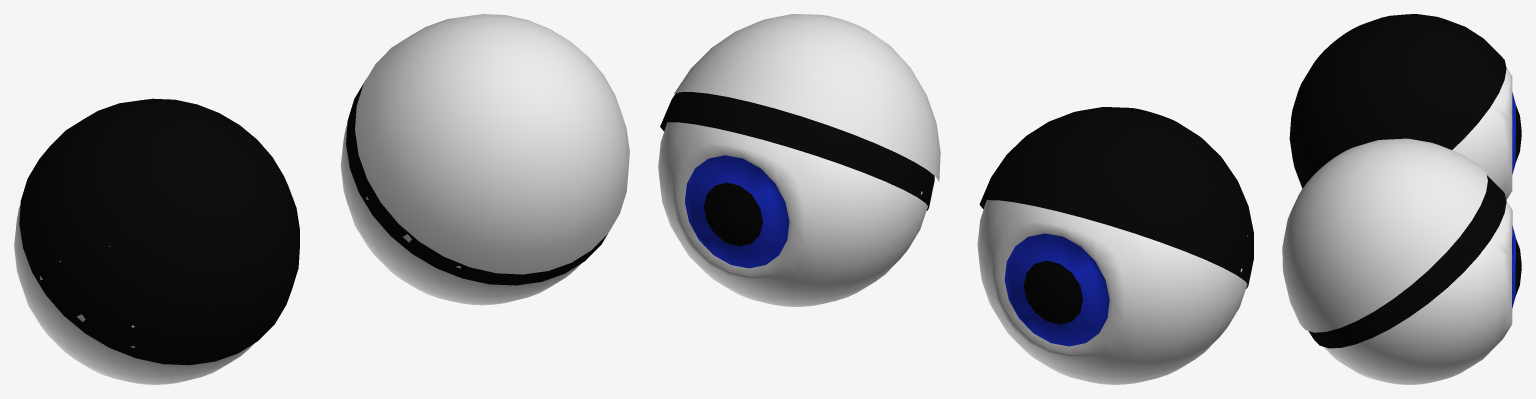
The model's file is Eyeball.glb.
3 renders of one model, left to right at view 1: azimuth 30°, elevation 25°; view 2: azimuth 150°, elevation 25°; view 3: azimuth 270°, elevation 25°, orthographic. The views are drawn at different scales.
Parts seen in each view (by area): view 1: Eyelid 2.001, Eyelid 1, EYEBALL, EYEBALL.001, Eyelid 2; view 2: EYEBALL.001, EYEBALL, Eyelid 2.001, Eyelid 1, Eyelid 2; view 3: Eyelid 1, Eyelid 2.001, EYEBALL, Eyelid 2, EYEBALL.001.
Boxes of the visible parts, bbox=[...] form: Eyelid 2.001: bbox=[19, 98, 299, 365]; Eyelid 1: bbox=[355, 14, 629, 274]; EYEBALL: bbox=[340, 124, 581, 305]; EYEBALL.001: bbox=[14, 204, 254, 384]; Eyelid 2: bbox=[346, 80, 607, 285]; EYEBALL.001: bbox=[977, 200, 1247, 384]; EYEBALL: bbox=[658, 122, 927, 306]; Eyelid 2.001: bbox=[979, 107, 1253, 288]; Eyelid 1: bbox=[674, 14, 940, 181]; Eyelid 2: bbox=[660, 92, 934, 210]; Eyelid 1: bbox=[1282, 138, 1487, 332]; Eyelid 2.001: bbox=[1289, 14, 1506, 188]; EYEBALL: bbox=[1324, 200, 1521, 384]; Eyelid 2: bbox=[1308, 175, 1506, 348]; EYEBALL.001: bbox=[1452, 67, 1521, 199].
Bounding box in the file's own units: 4.71 × 2.1 × 2.03.
